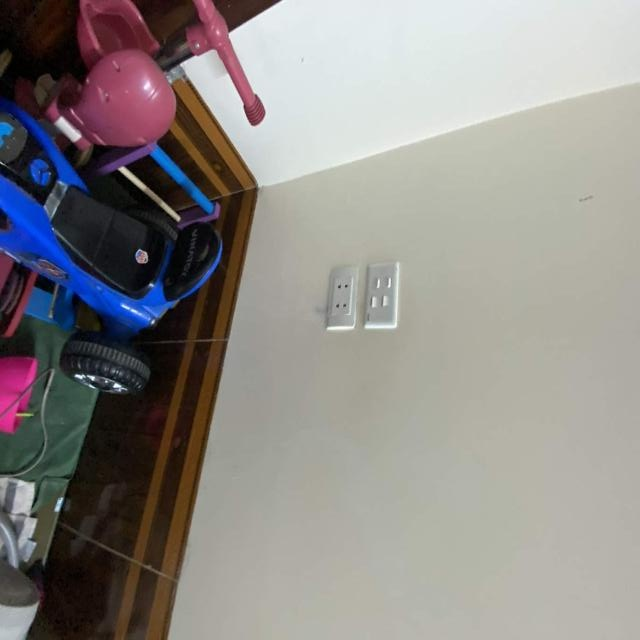outlet: (326, 265, 359, 330)
